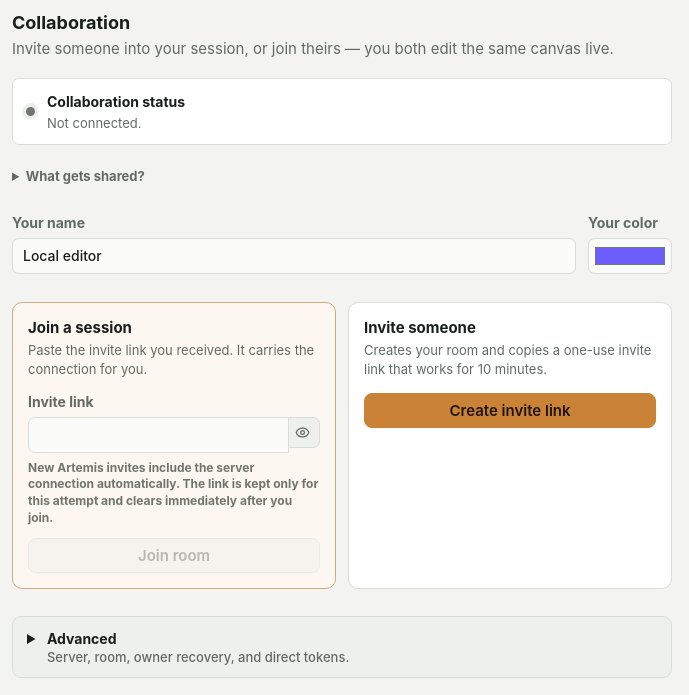
Test: collaboration invite settings › clears a rejected link and does not expose it in the failure status
In the password field labelled "Invite link": [158, 435] box [28,417,289,453], type "forgeboard://collaboration/invite#token=PRIVATE_INVITE_TOKEN"
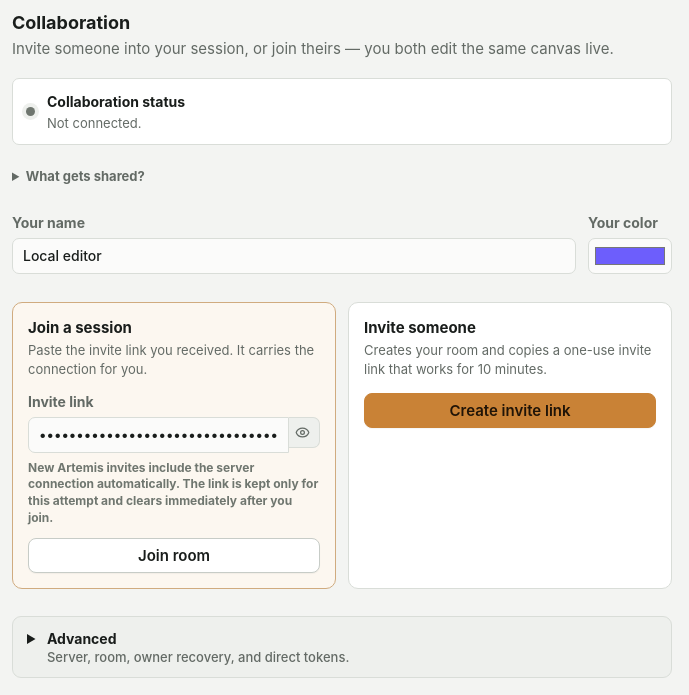
Click the button "Join room": [174, 555] box [28,538,320,573]
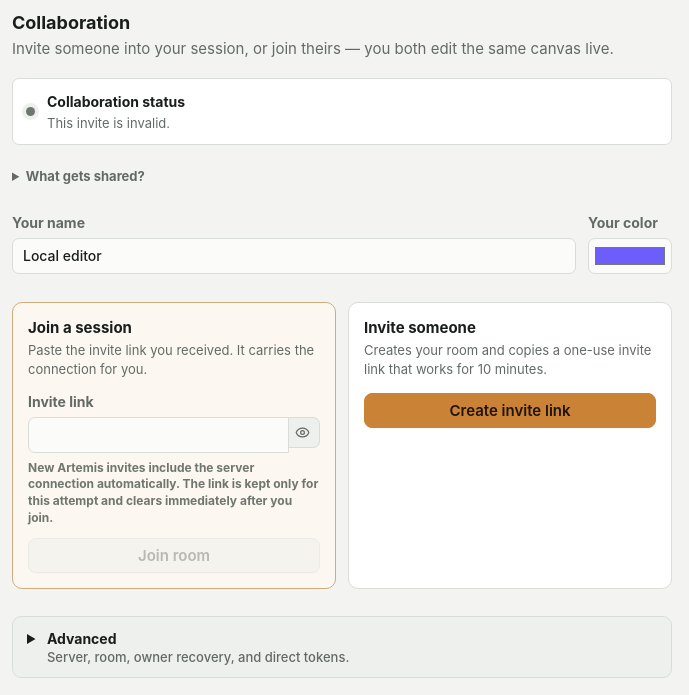
expect the text "This invite is invalid." is shown: met, box [47,114,170,130]
expect the password field labelled "Invite link" is empty: met, box [28,417,289,453]
